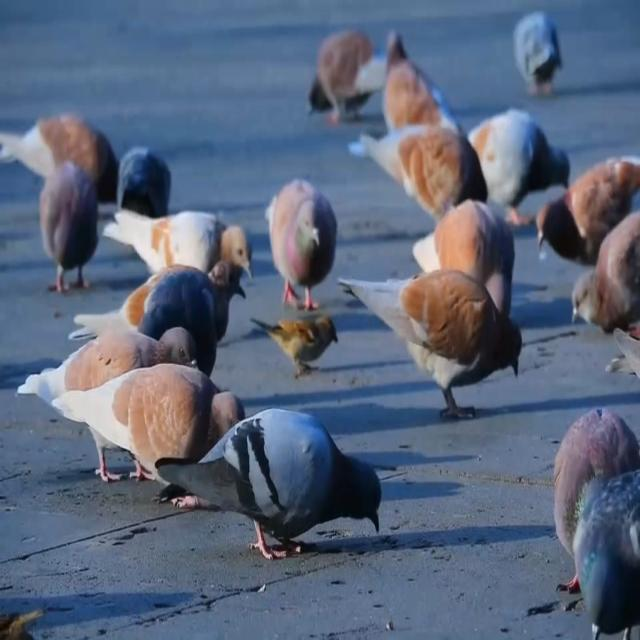bird: (333, 254, 546, 479), (195, 384, 391, 591), (9, 310, 201, 491), (51, 369, 247, 508), (401, 163, 532, 341), (544, 383, 640, 600), (64, 248, 253, 354), (93, 180, 264, 293), (338, 107, 492, 222), (456, 85, 572, 235), (0, 96, 130, 222), (559, 446, 640, 640), (126, 245, 248, 363), (368, 13, 464, 160), (527, 136, 640, 255), (555, 191, 640, 349), (255, 175, 339, 326), (298, 18, 394, 146), (28, 153, 104, 305), (238, 294, 344, 394), (105, 120, 182, 240), (499, 0, 571, 111), (606, 302, 640, 398)
